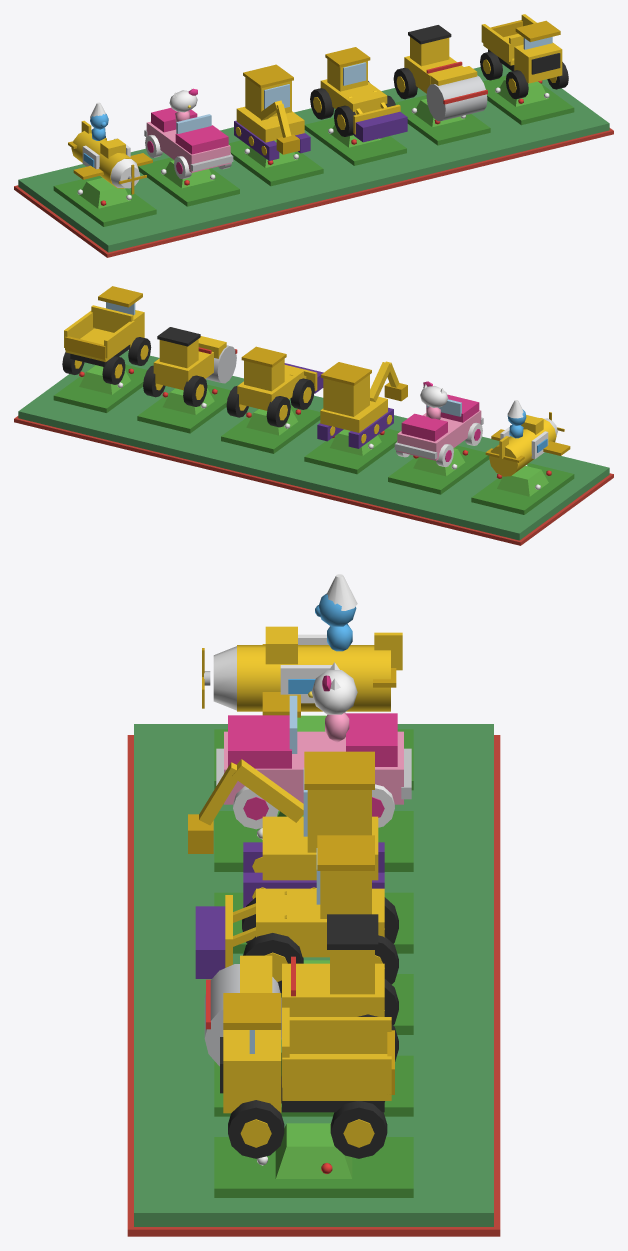
3 renders of one model, top to bottom at view 1: azimuth 30°, elevation 25°; view 2: azimuth 150°, elevation 25°; view 3: azimuth 270°, elevation 25°, orthographic. The views are drawn at different scales.
Visible parts, largest first — view 1: base, swing3, swing4, swing5, swing2, swing1, swing0; view 2: base, swing5, swing2, swing4, swing3, swing1, swing0; view 3: base, swing5, swing3, swing2, swing1, swing0, swing4.
Boxes of the visible parts, box(x1,y1,x2,y2) form: base: box(14, 64, 613, 257); swing3: box(310, 47, 407, 142); swing4: box(393, 25, 487, 121); swing5: box(480, 14, 568, 99); swing2: box(234, 64, 310, 160); swing1: box(144, 88, 233, 179); swing0: box(68, 102, 152, 194); base: box(14, 350, 613, 545); swing5: box(62, 286, 151, 384); swing2: box(317, 361, 407, 448); swing4: box(143, 327, 237, 406); swing3: box(226, 346, 323, 427); swing1: box(394, 381, 483, 467); swing0: box(485, 400, 570, 476); base: box(127, 715, 500, 1236); swing5: box(220, 993, 394, 1158); swing3: box(195, 835, 398, 993); swing2: box(188, 751, 384, 907); swing1: box(216, 662, 411, 829); swing0: box(202, 574, 402, 717); swing4: box(204, 914, 398, 1066).
Size of the model in its own units: 9.1 by 1.8 by 2.9.
